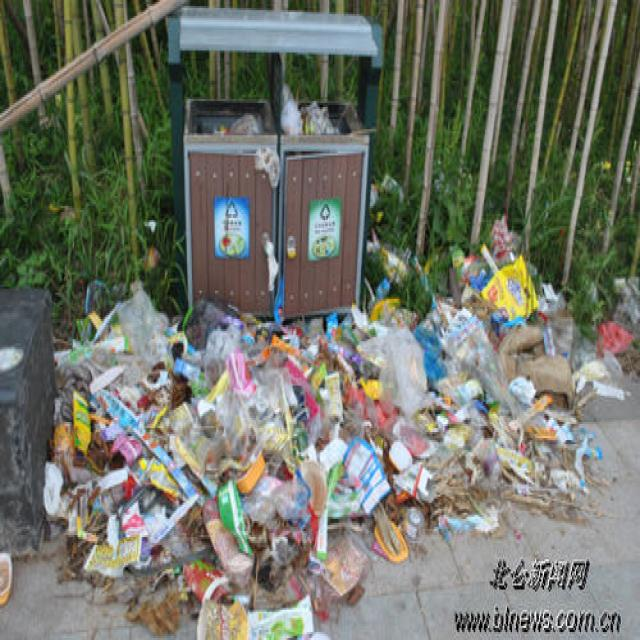garbage: (41, 174, 639, 638)
overflow: (164, 6, 383, 319)
